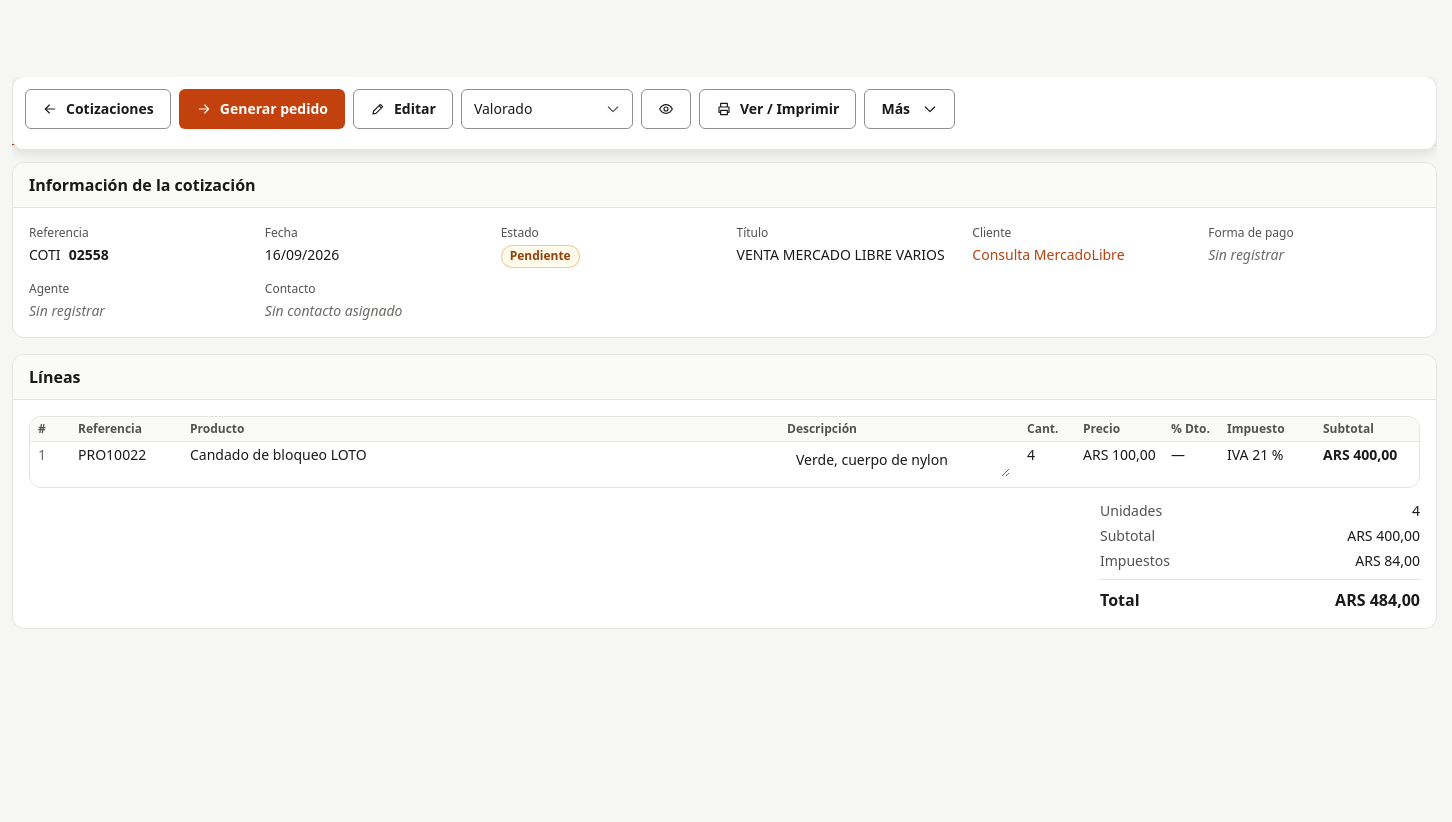
Test case: Cotización · convertir en pedido › si el servidor rechaza la conversión, se dice en castellano y no se navega
What coordinates should you click on to do the following:
click the button "Generar pedido"
I would click on:
 (262, 109)
Its box is [179,89,345,129].
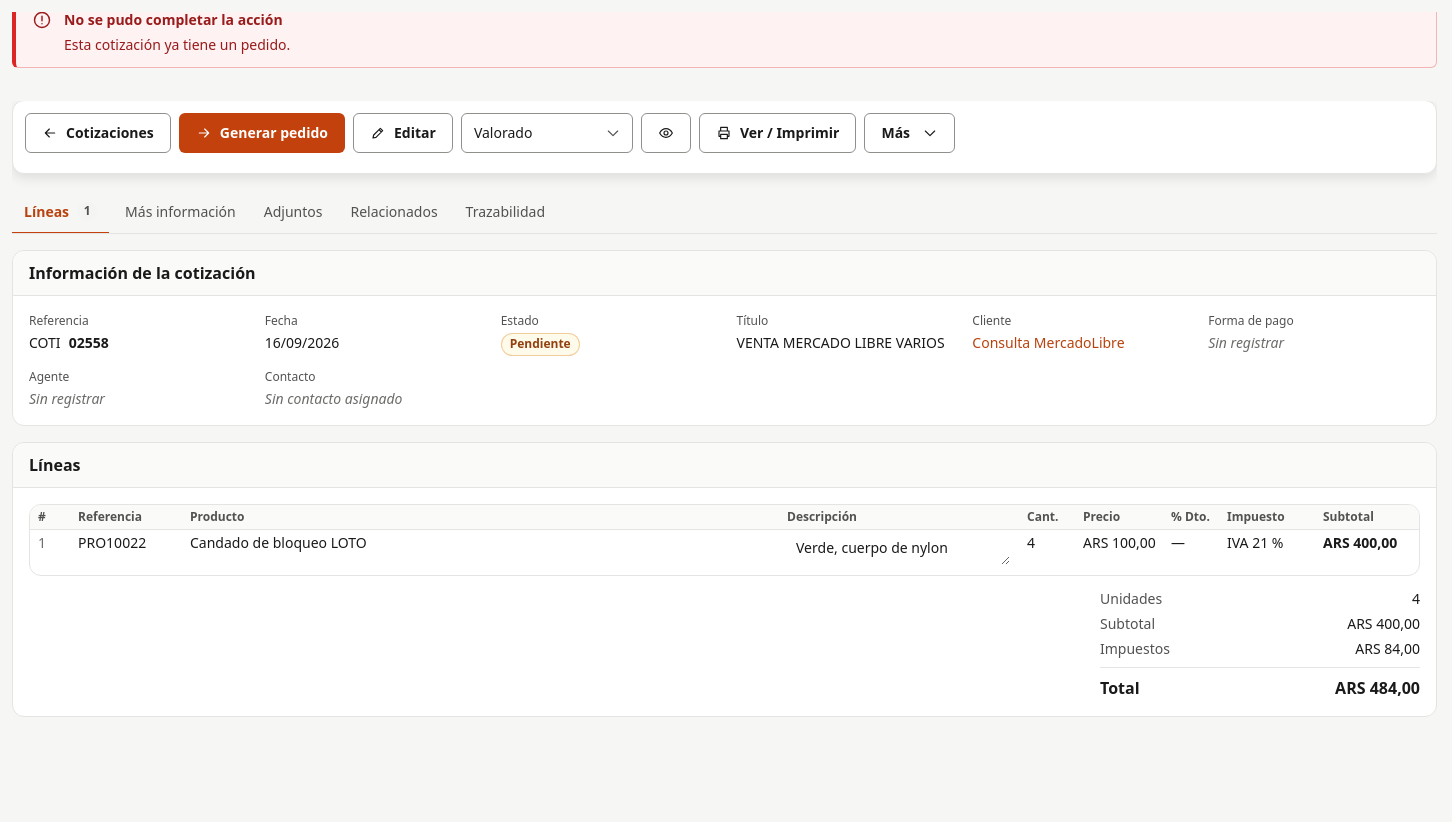
Now the text "Esta cotización ya tiene un pedido." is shown, box [64,35,290,54]
